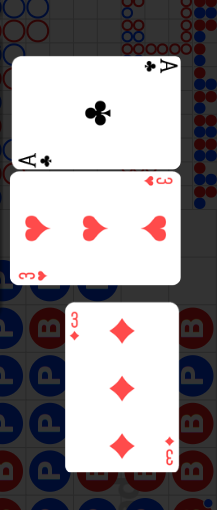3H: (142, 175, 173, 188)
6D: (163, 435, 175, 466)
AC: (18, 151, 55, 167)
